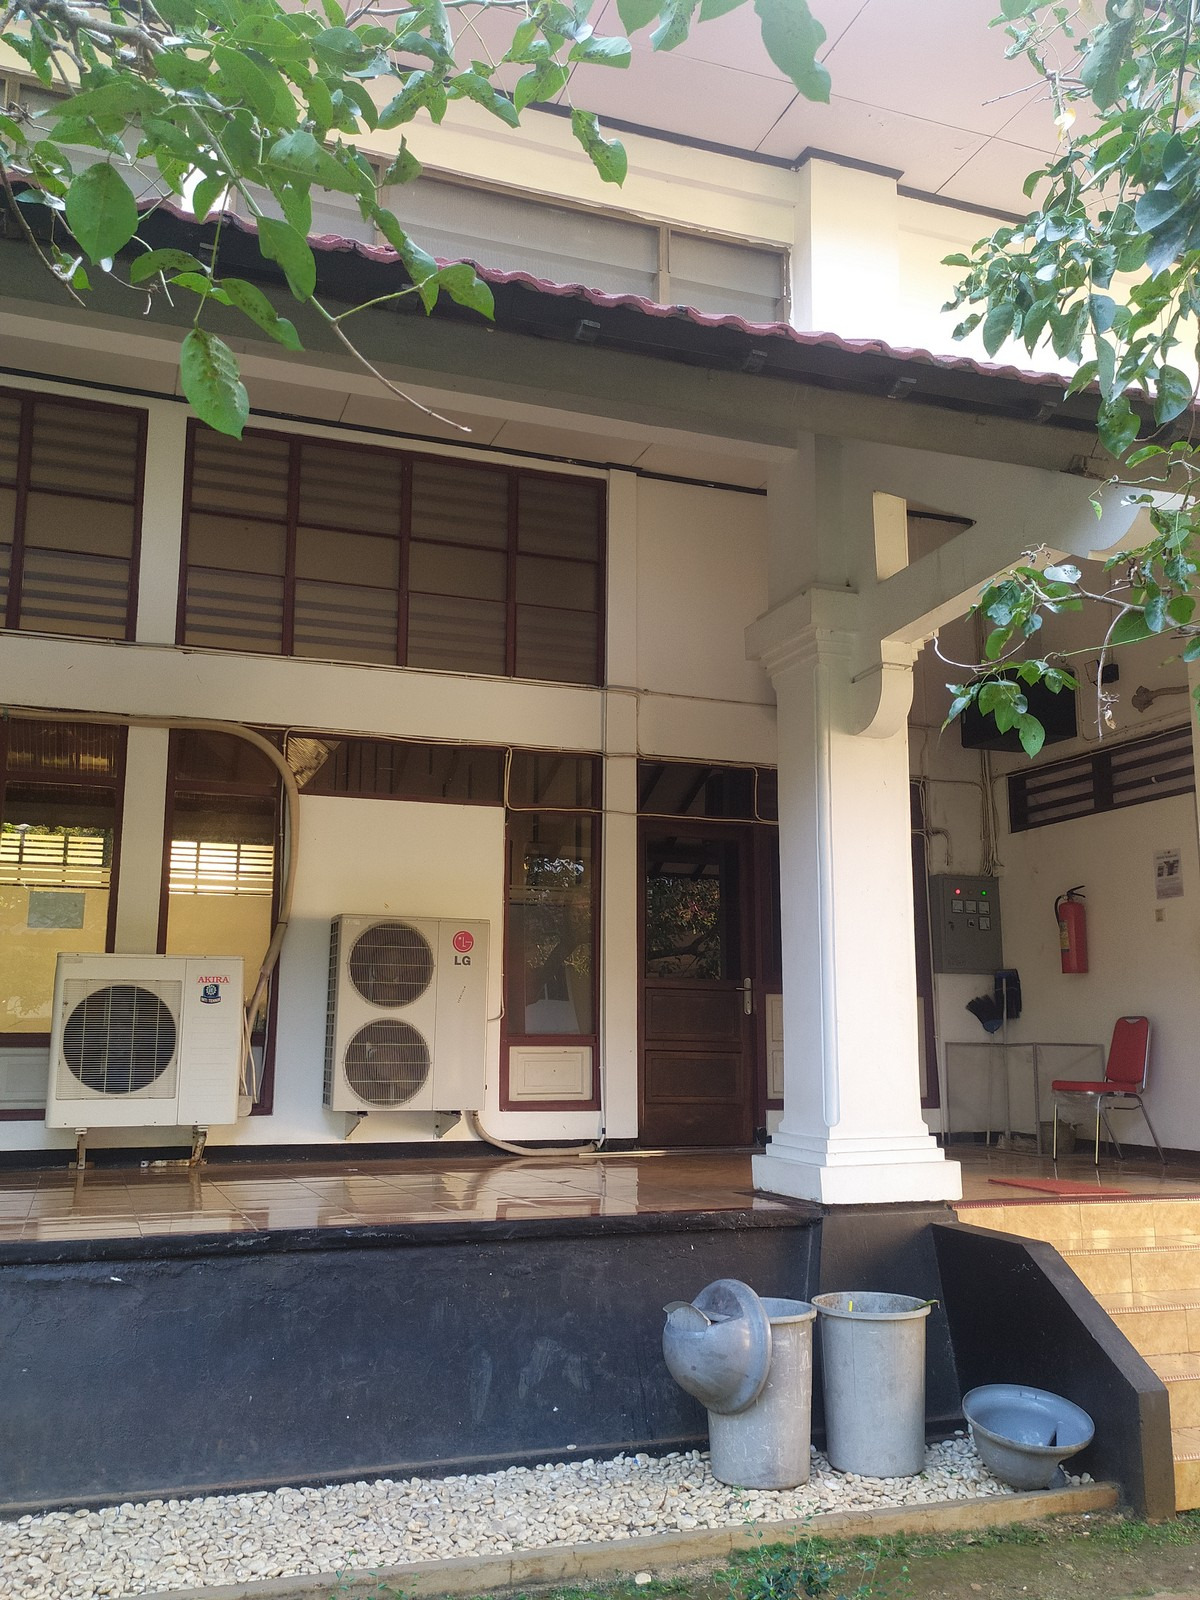concrete beam: (856, 522, 1039, 675)
concrete column: (763, 643, 937, 1182)
